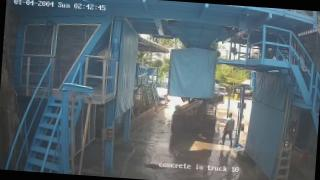cement_mixer_truck: (171, 79, 224, 133)
